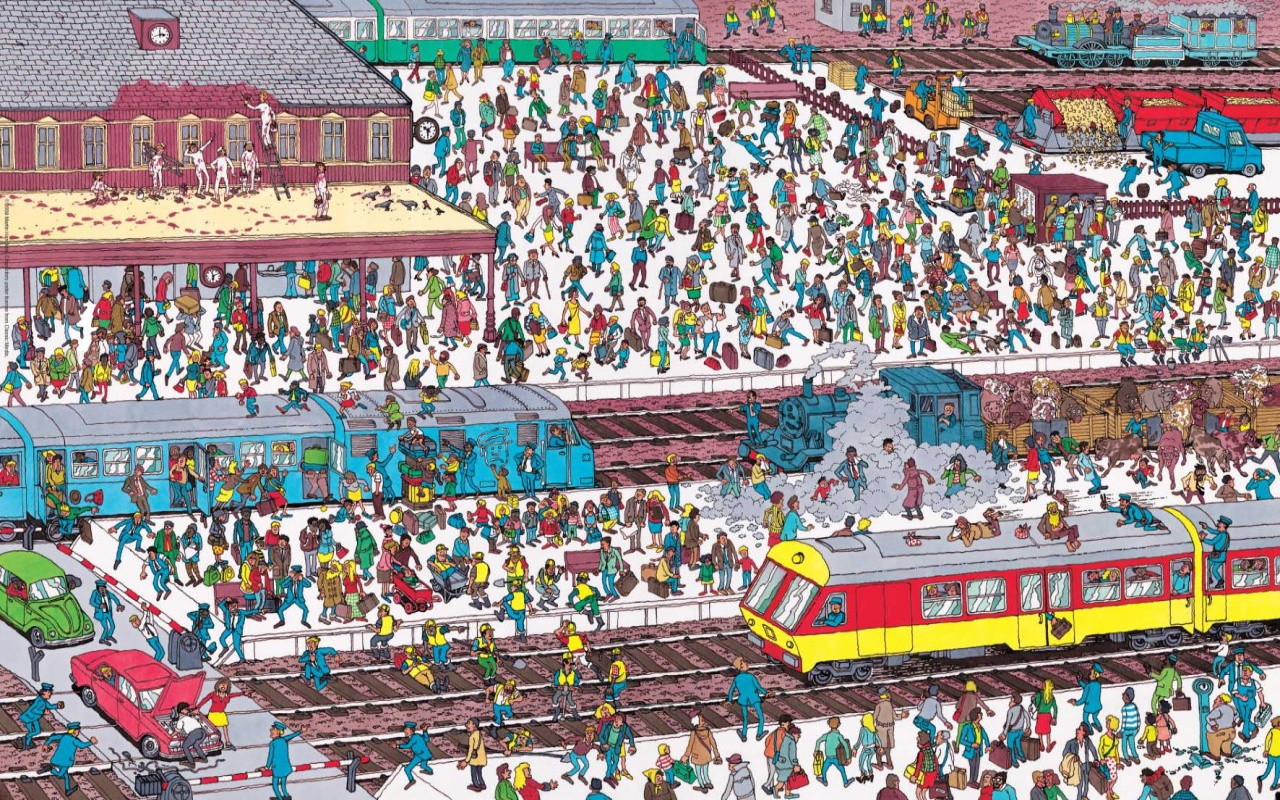waldo: (929, 254, 946, 286)
